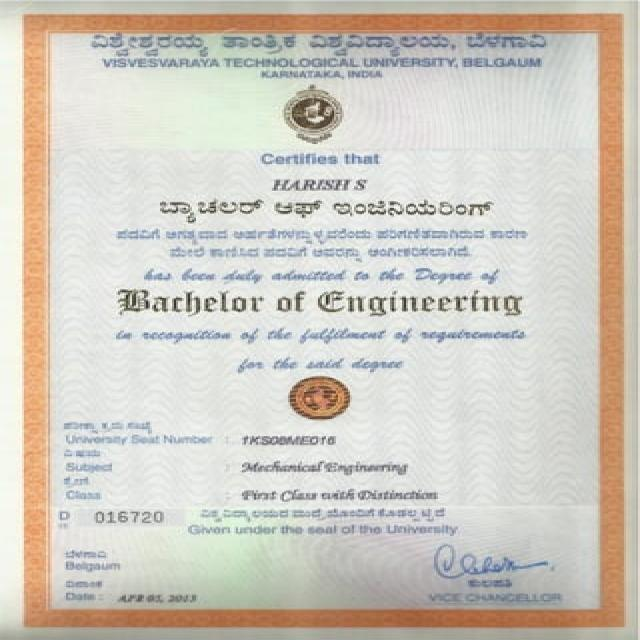degree: (109, 285, 538, 321)
signature: (414, 542, 564, 591)
stamp: (264, 79, 360, 149)
